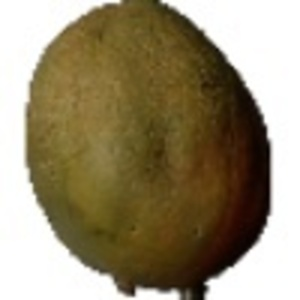mamão: (20, 2, 276, 290)
